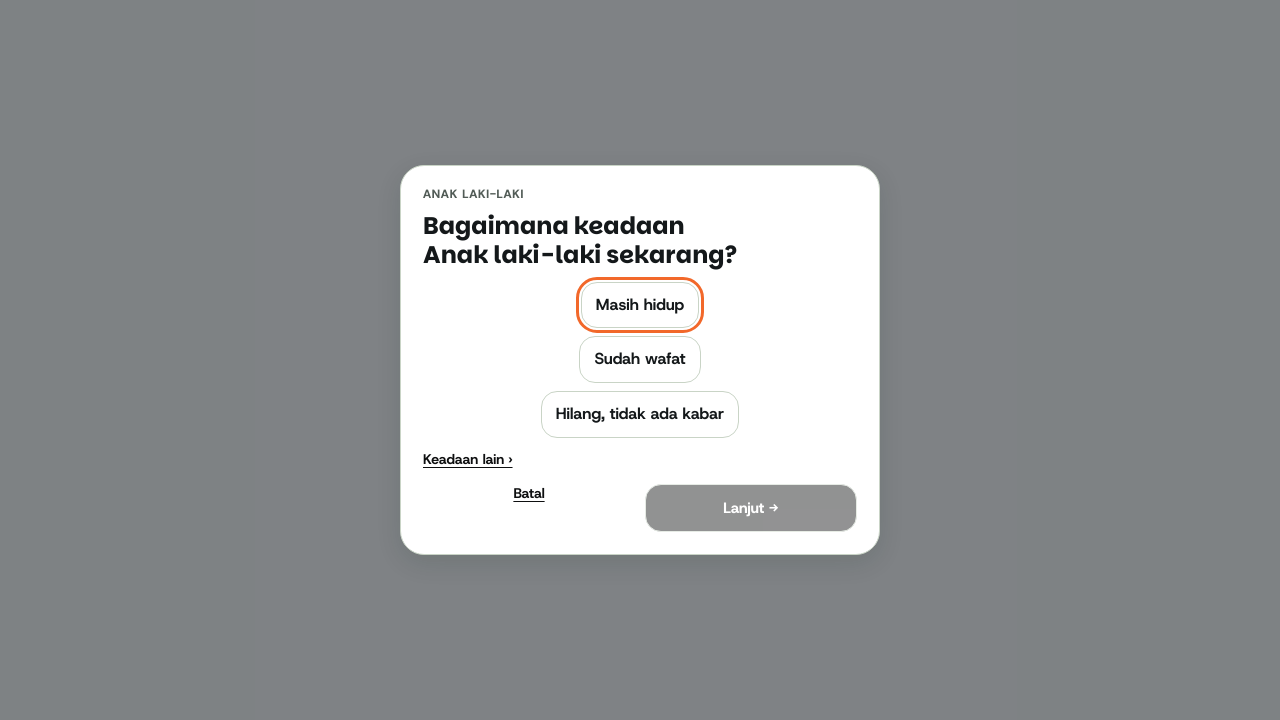
Test: DialogKeadaan › keadaan lain: khuntsa hanya untuk hubungan yang mungkin
Click the button "Keadaan lain ›": (468, 459) [423,450,512,468]
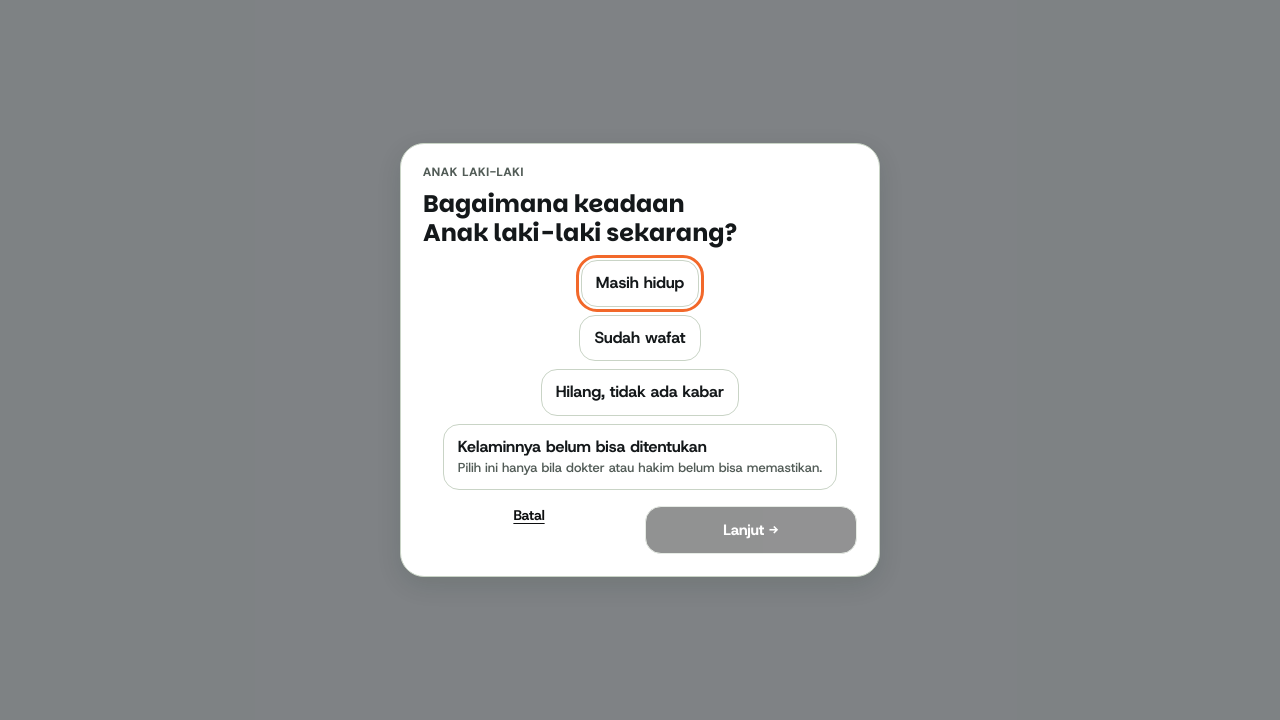
Check: the radio button labelled "Kelaminnya belum bisa ditentukan" is shown, box [443,424,837,490]
